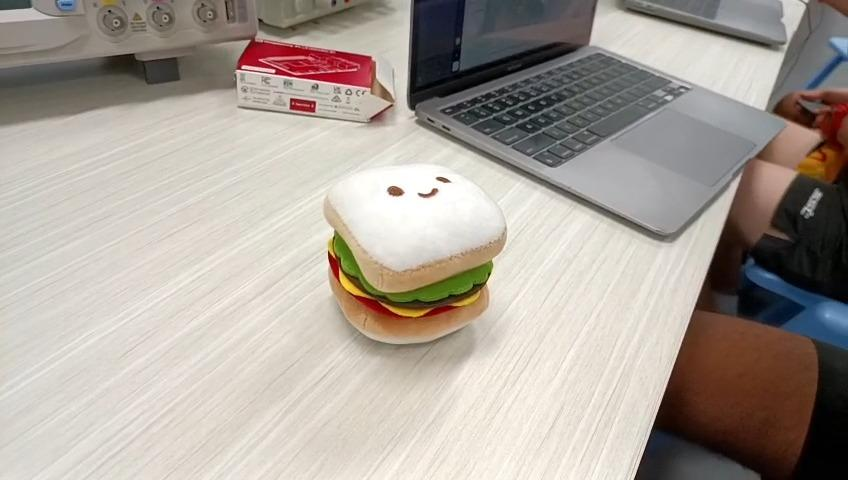objects: (322, 160, 506, 350)
